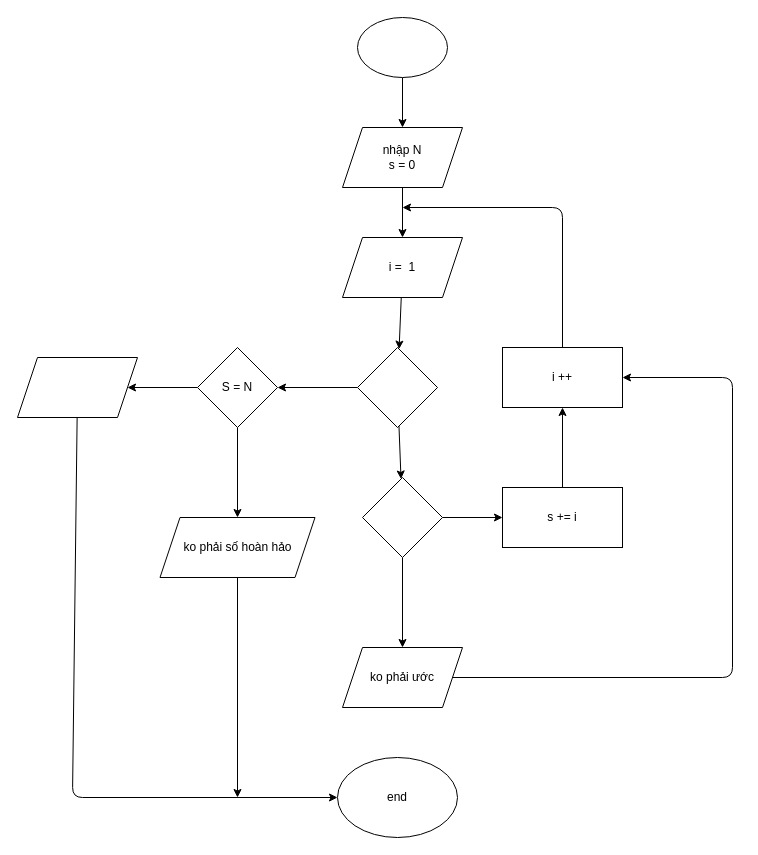
Image size: 758x855. Some labels were removed from this diagram. The centre of each missing label's shape, as x and y in pixels:
i < N: pixel 397 387
i%N==0: pixel 402 517
là số hoàn hảo: pixel 77 387
start: pixel 402 47
